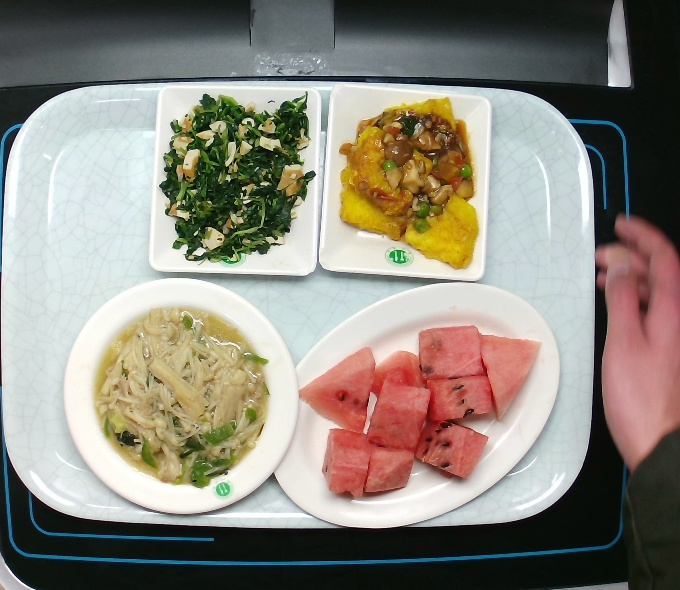wcq-CuiPiDouFu: (334, 95, 482, 270)
wcq-JinZhenGu: (92, 304, 268, 488)
wcq-MaLanTouChaoDouGan: (160, 90, 316, 266)
wcq-XiGua: (291, 320, 545, 508)
